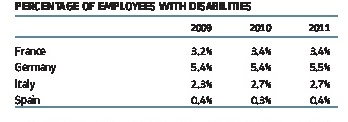table: (0, 0, 348, 122)
